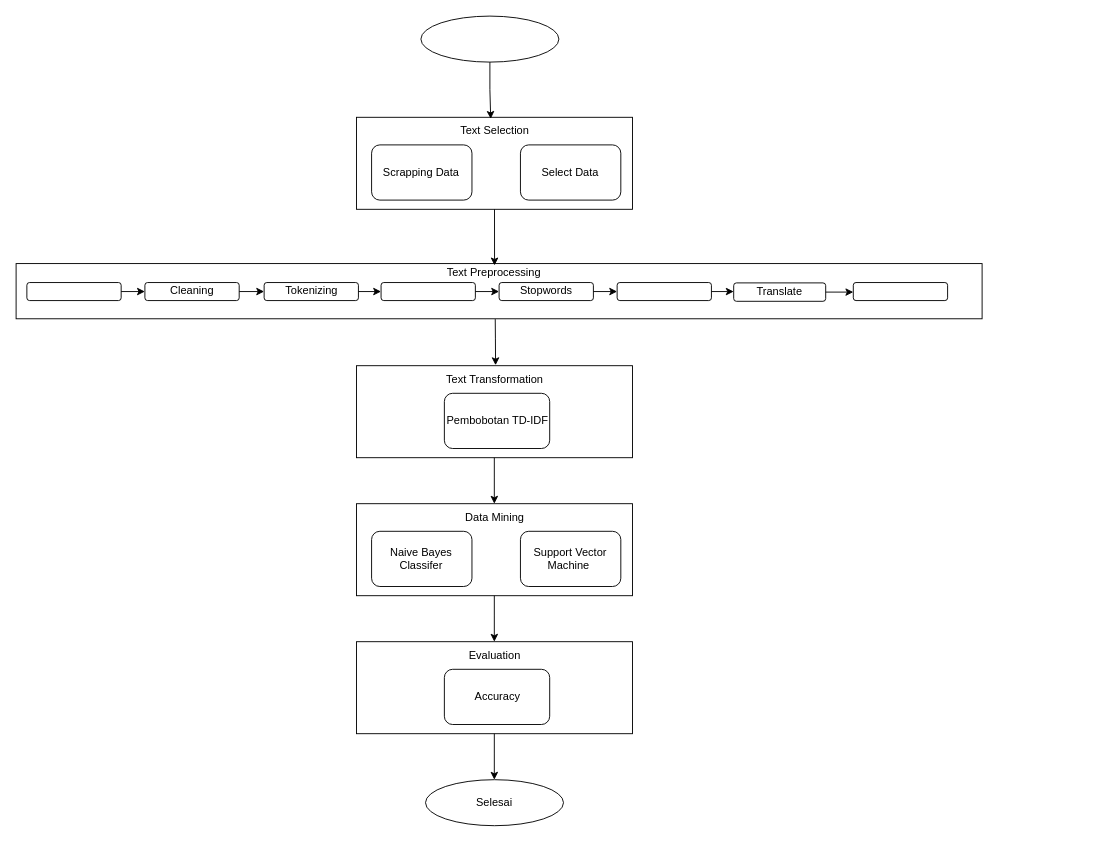
This 1109x842 diagram has some shape labels left out. Each missing label, with the centre of its shape:
"Case Folding" goes at point (73, 291).
"Labeling" goes at point (900, 291).
"Mulai" goes at point (489, 38).
"Normalization" goes at point (427, 291).
"Stemming" goes at point (663, 291).
